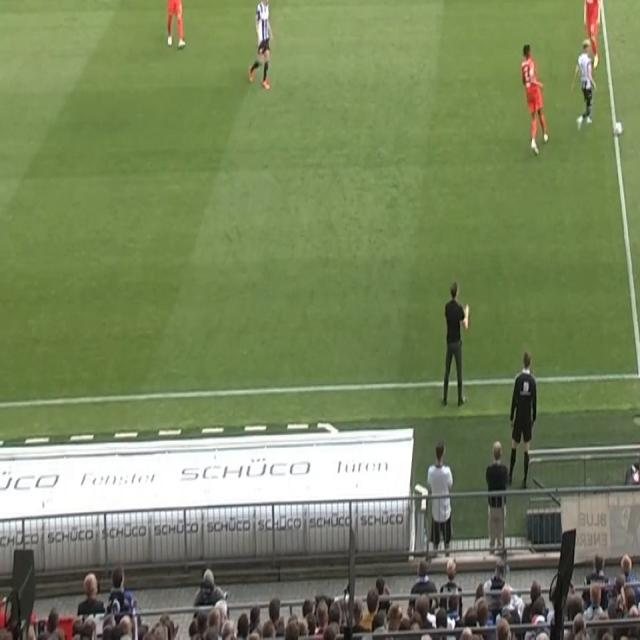ball: (612, 120, 623, 138)
